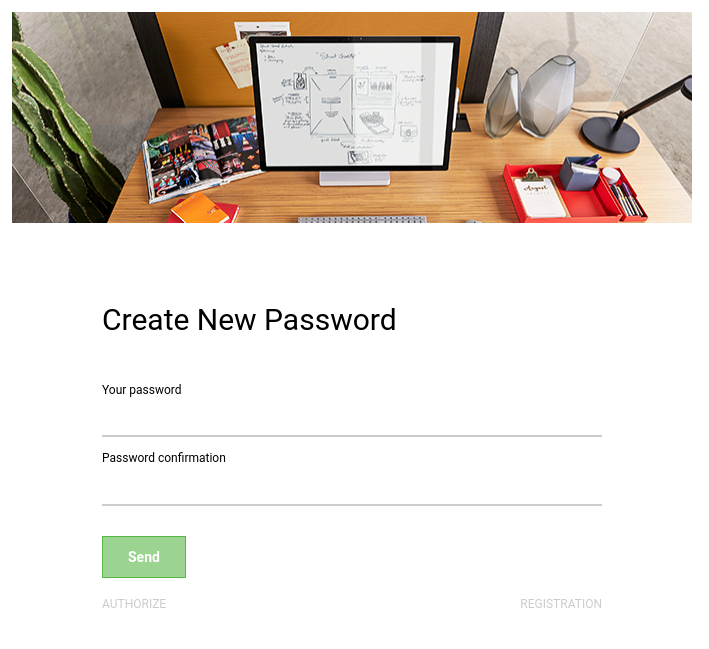
Test case: NewPassword › input double password › different passwords
Type "123123aA@" into the password field with test id "input_password" at (352, 418), box [102,399,602,438]
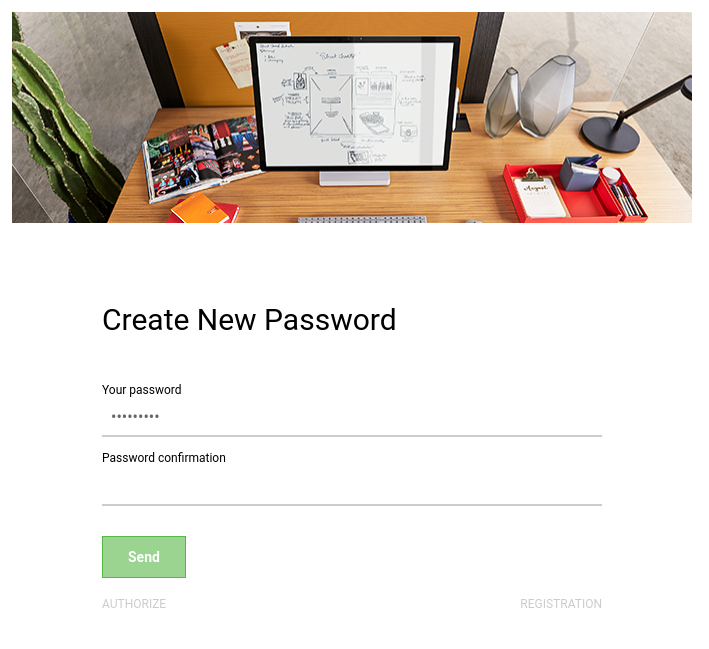
Type "123pass456345" into the password field with test id "input_double_password" at (352, 487), box [102,468,602,506]
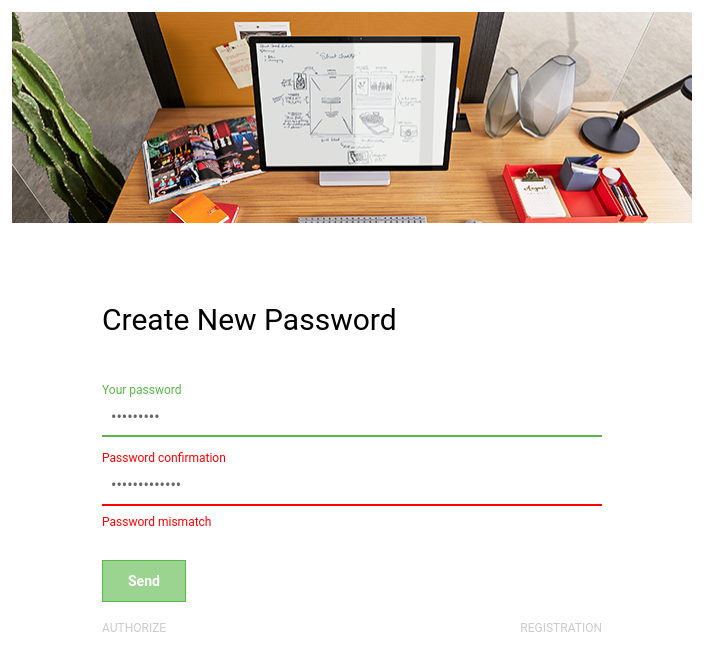
Now the element with test id "test_double_password" reads "Password mismatch", box [102,515,212,529]
